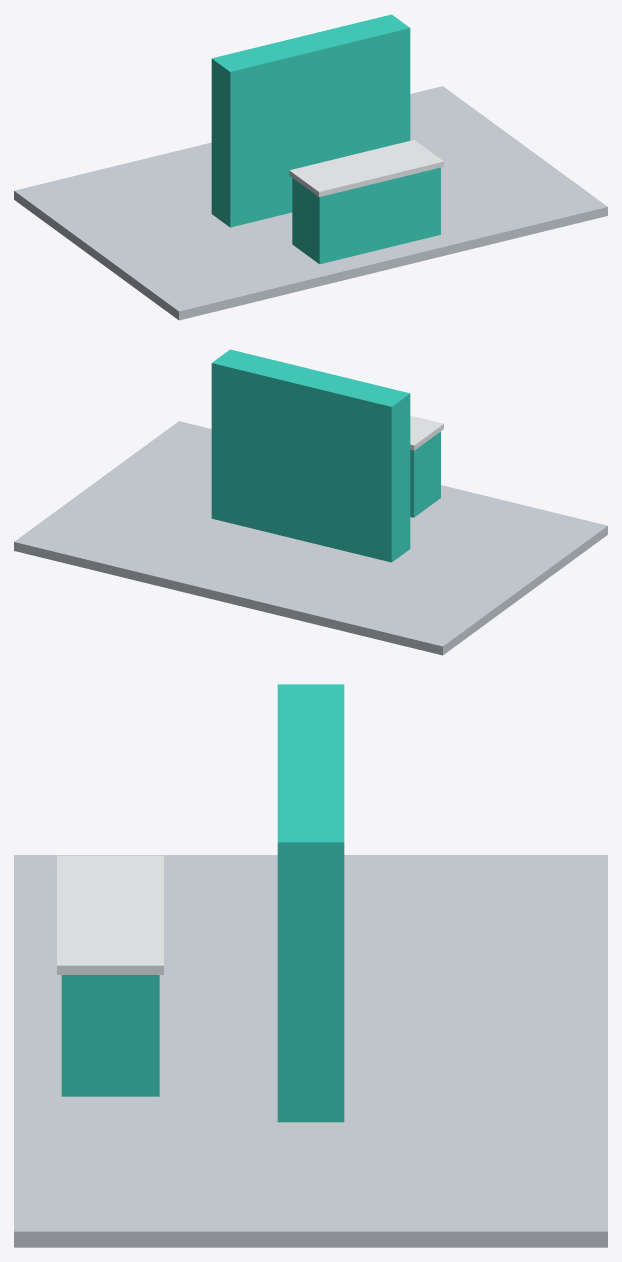
3 renders of one model, top to bottom at view 1: azimuth 30°, elevation 25°; view 2: azimuth 150°, elevation 25°; view 3: azimuth 270°, elevation 25°, orthographic. The views are drawn at different scales.
Visible parts, largest first — view 1: Exhibition Booth Concept; view 2: Exhibition Booth Concept; view 3: Exhibition Booth Concept.
Boxes of the visible parts, x1=… form: Exhibition Booth Concept: x1=14, y1=14, x2=607, y2=320; Exhibition Booth Concept: x1=14, y1=349, x2=607, y2=655; Exhibition Booth Concept: x1=14, y1=684, x2=607, y2=1247.
Bounding box in the file's own units: 6 × 2.2 × 4.
